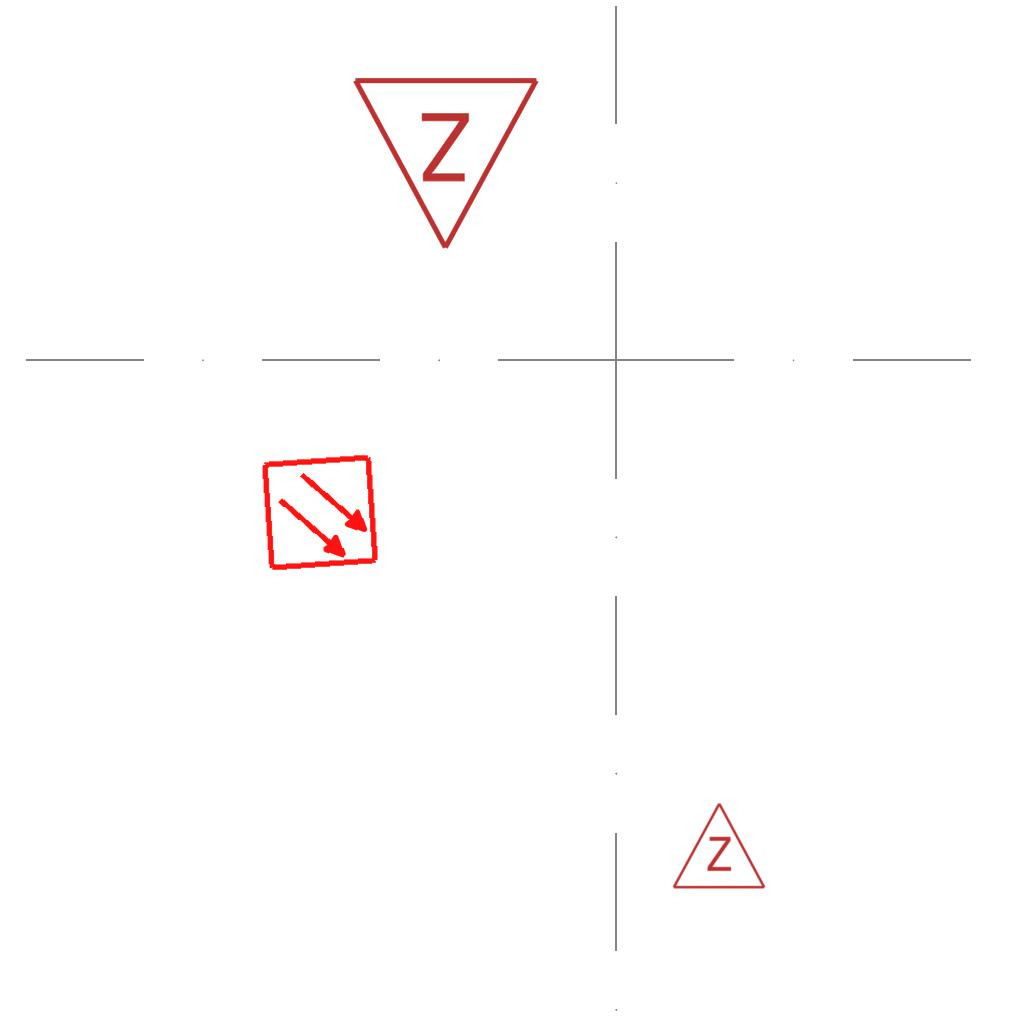RMO_Rauchmelder_optischer: (260, 452, 381, 573)
Zimmersignalleuchte: (350, 63, 546, 263), (669, 796, 767, 896)
